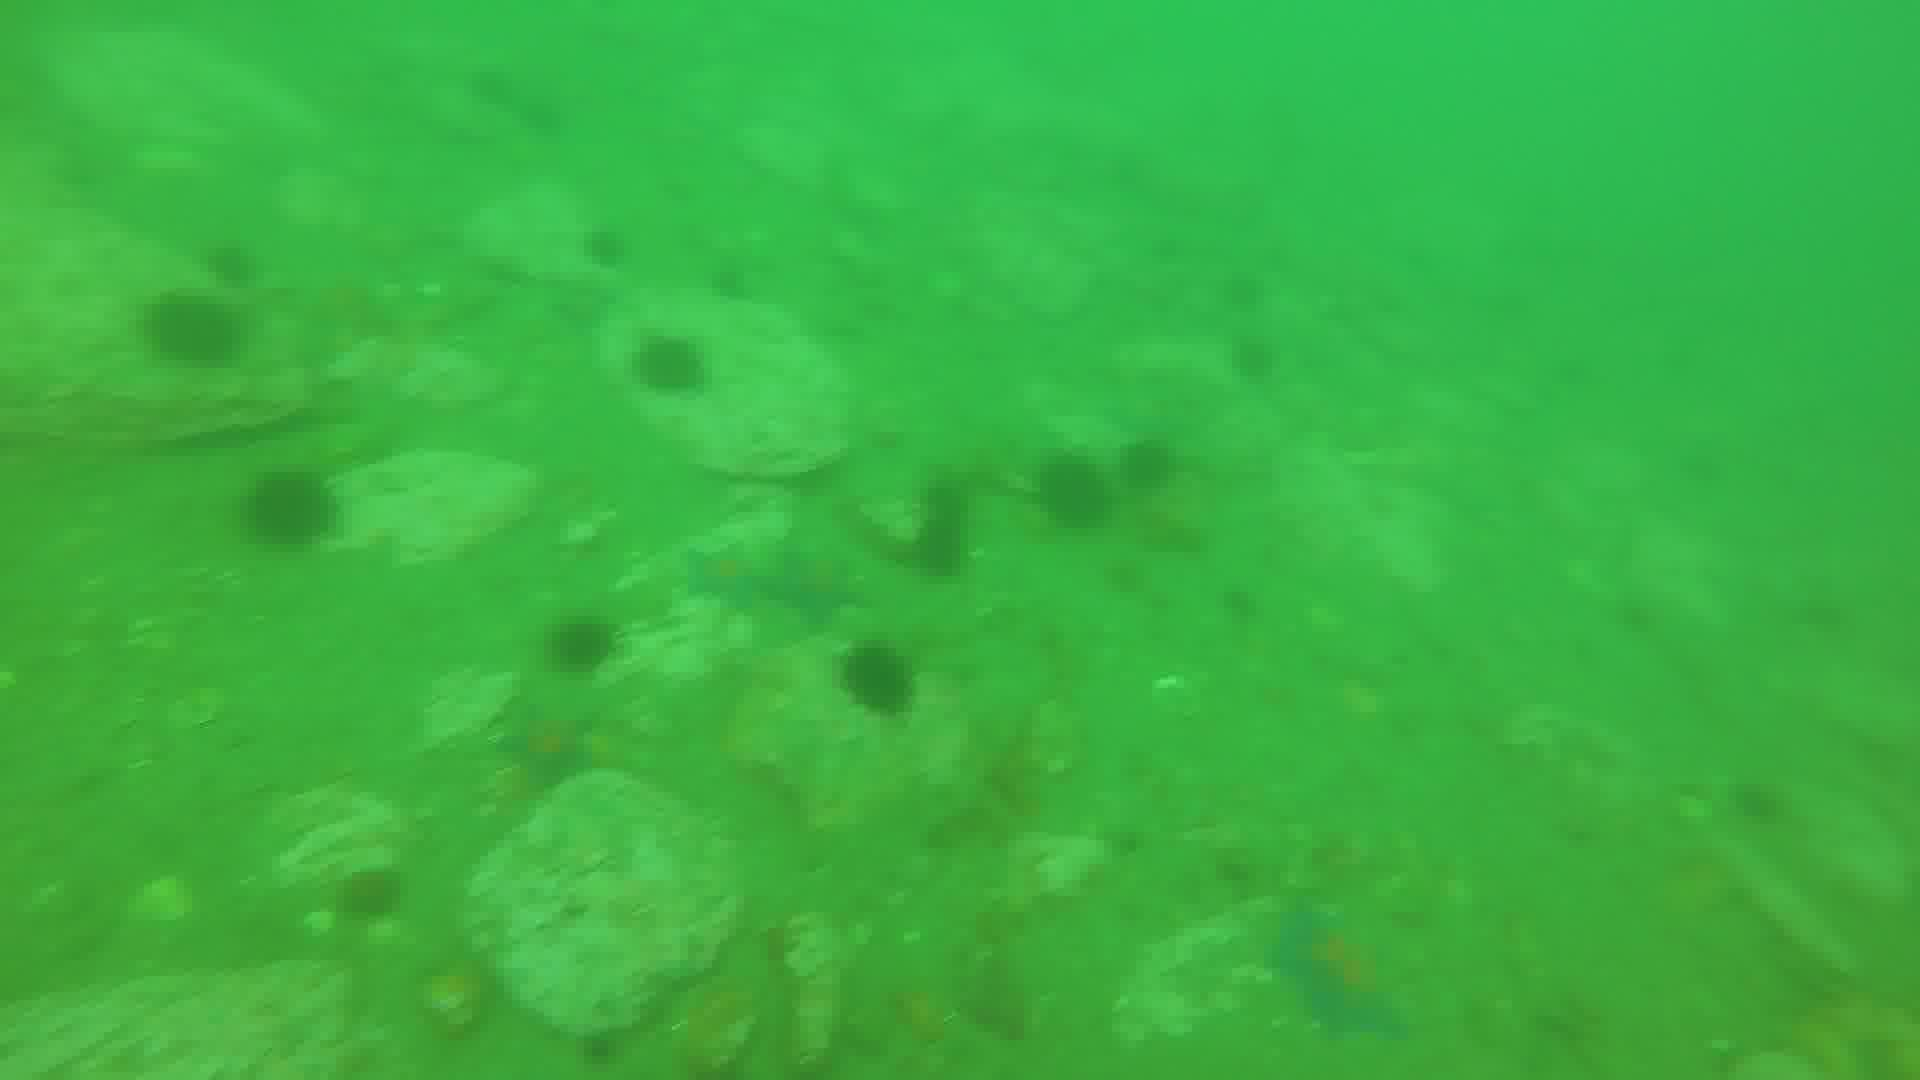echinus: (252, 463, 344, 550), (152, 285, 243, 363), (1036, 448, 1118, 527), (851, 644, 923, 728), (632, 338, 708, 400), (550, 615, 618, 673), (1120, 444, 1183, 492), (913, 527, 963, 578), (927, 475, 978, 521)
starfish: (1276, 902, 1410, 1038), (770, 534, 870, 622), (506, 704, 607, 786), (688, 539, 767, 609), (338, 862, 400, 920)
